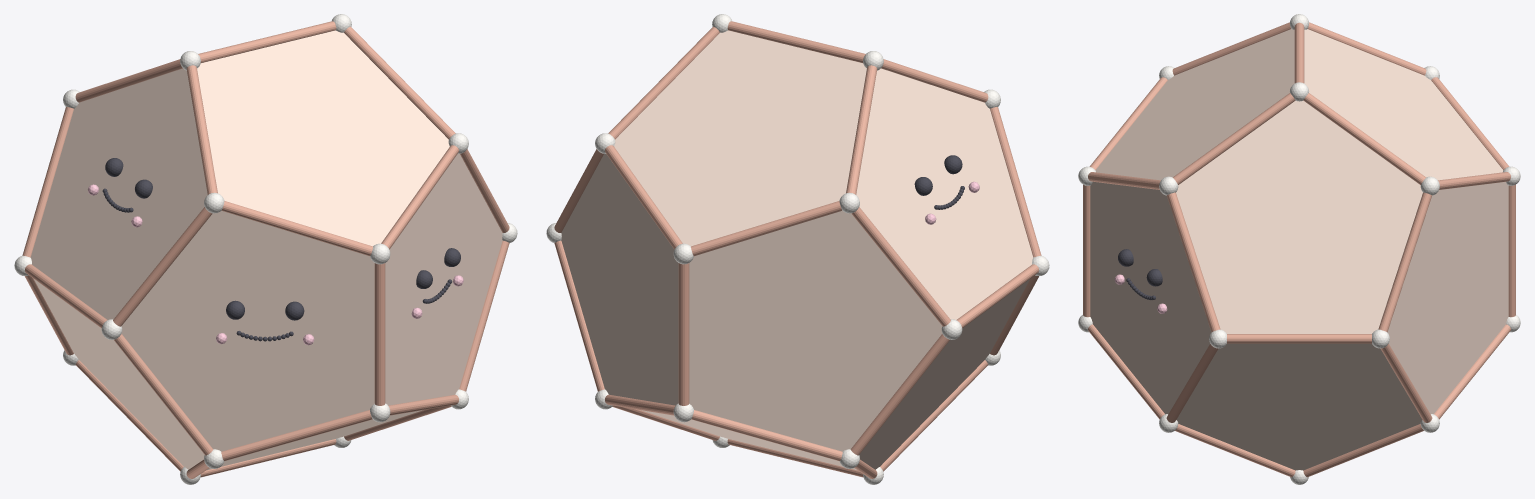
The model's file is 12dodecahedron_cute_smile_facets_edges_vertices.glb.
The picture shows the model from 3 angles, left to right: view 1: azimuth 30°, elevation 25°; view 2: azimuth 150°, elevation 25°; view 3: azimuth 270°, elevation 25°; orthographic projection. The views are drawn at different scales.
Parts seen in each view (by area): view 1: DodecaBody, DodecaEdges, DodecaVertices, CuteFaceFeatures, CuteCheeks; view 2: DodecaBody, DodecaEdges, DodecaVertices, CuteFaceFeatures; view 3: DodecaBody, DodecaEdges, DodecaVertices, CuteFaceFeatures.
Boxes of the visible parts, <box> form: DodecaBody: <box>30,30,502,470</box>; DodecaEdges: <box>22,21,509,478</box>; DodecaVertices: <box>14,14,517,484</box>; CuteFaceFeatures: <box>102,158,460,341</box>; CuteCheeks: <box>88,184,463,345</box>; DodecaBody: <box>561,30,1033,470</box>; DodecaEdges: <box>554,21,1041,478</box>; DodecaVertices: <box>546,14,1049,484</box>; CuteFaceFeatures: <box>914,155,964,209</box>; DodecaBody: <box>1090,29,1508,470</box>; DodecaEdges: <box>1083,22,1515,477</box>; DodecaVertices: <box>1078,14,1520,484</box>; CuteFaceFeatures: <box>1118,249,1162,299</box>.
Bounding box in the file's own units: 3.38 × 3.38 × 3.38.
